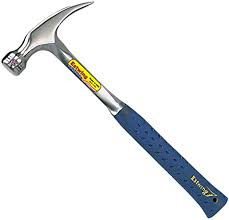martillu: (3, 1, 227, 220)
